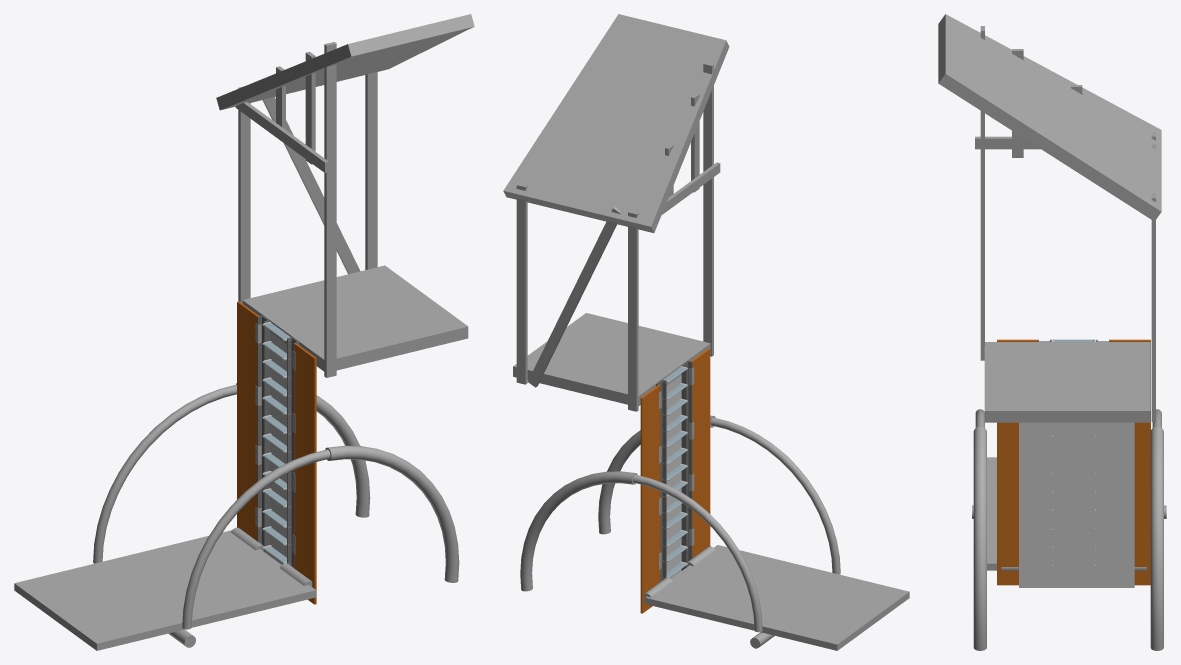
Rendered from ConningTower.fbx.
3 views of the same model, side by side, from view 1: azimuth 30°, elevation 25°; view 2: azimuth 150°, elevation 25°; view 3: azimuth 270°, elevation 25° (orthographic). The views are drawn at different scales.
Parts seen in each view (by area): view 1: Junk1, Floor, polySurface77 (×2), Celling, Support6, polySurface76 (×2), pTorus6, Support, Ladder_Stair13, pTorus5, Support1, pTorus7 (+5 smaller); view 2: Celling, Junk1, Floor, polySurface77 (×2), polySurface76 (×2), Support6, pTorus8, Support, Support2, Support1, Ladder_Stair13, pTorus7 (+4 smaller); view 3: MeshBacking, Celling, Floor, polySurface77 (×2), pTorus8, pTorus6, Support6, Junk1, Support, Support3, Support4.
Part boxes in pixels (left/top/right/bottom): Junk1: left=14, top=530, right=316, bottom=650; Floor: left=242, top=265, right=468, bottom=371; polySurface77 (×2): left=237, top=301, right=316, bottom=604; Celling: left=216, top=14, right=474, bottom=110; Support6: left=324, top=42, right=336, bottom=377; polySurface76 (×2): left=257, top=315, right=299, bottom=567; pTorus6: left=325, top=445, right=459, bottom=582; Support: left=365, top=71, right=377, bottom=269; Ladder_Stair13: left=262, top=321, right=291, bottom=564; pTorus5: left=182, top=449, right=330, bottom=629; Support1: left=238, top=86, right=250, bottom=303; pTorus7: left=93, top=384, right=236, bottom=563; Celling: left=503, top=14, right=729, bottom=232; Junk1: left=645, top=545, right=909, bottom=650; Floor: left=513, top=313, right=710, bottom=405; polySurface77 (×2): left=640, top=348, right=710, bottom=613; polySurface76 (×2): left=656, top=360, right=692, bottom=581; Support6: left=703, top=62, right=713, bottom=356; pTorus8: left=520, top=471, right=637, bottom=591; Support: left=516, top=183, right=527, bottom=384; Support2: left=527, top=207, right=621, bottom=387; Support1: left=628, top=211, right=638, bottom=411; Ladder_Stair13: left=662, top=366, right=687, bottom=578; pTorus7: left=633, top=474, right=762, bottom=632; MeshBacking: left=1019, top=422, right=1134, bottom=587; Celling: left=938, top=14, right=1161, bottom=221; Floor: left=984, top=342, right=1150, bottom=422; polySurface77 (×2): left=997, top=339, right=1150, bottom=585; pTorus8: left=1150, top=426, right=1163, bottom=650; pTorus6: left=973, top=426, right=986, bottom=650; Support6: left=980, top=26, right=984, bottom=360; Junk1: left=987, top=457, right=996, bottom=570; Support: left=1151, top=193, right=1155, bottom=422; Support3: left=975, top=136, right=1040, bottom=149; Support4: left=1012, top=49, right=1023, bottom=157.
Bounding box in the file's own units: 644 × 947 × 340.
